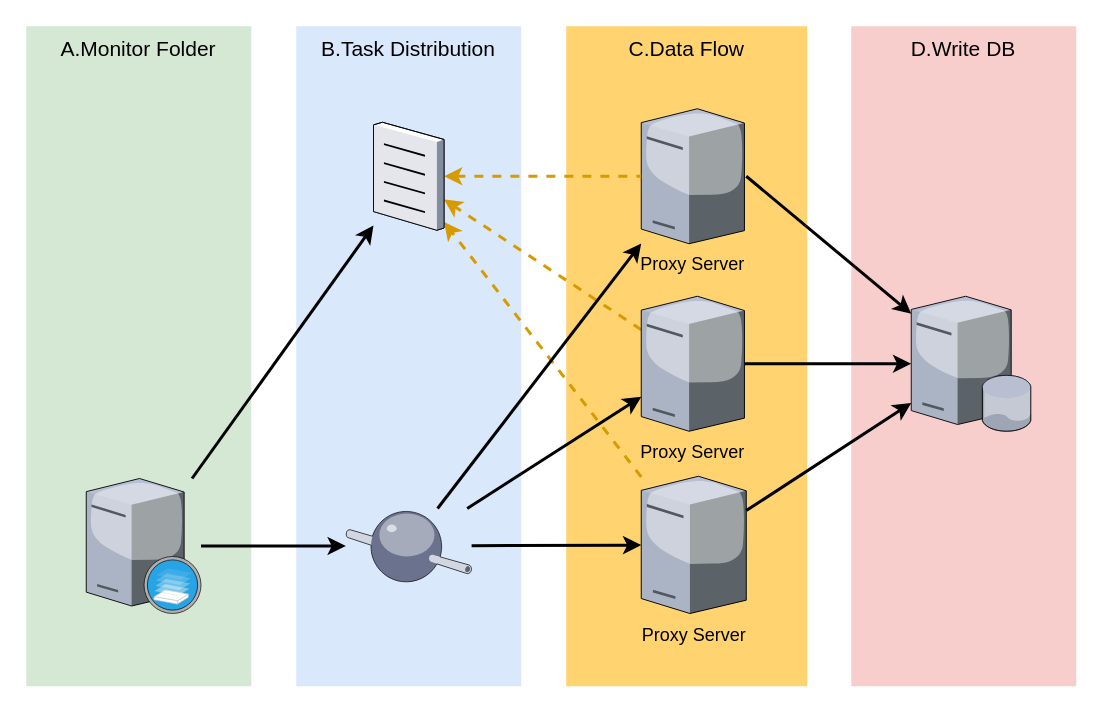
Image size: 1101x711. Some labels were removed from this diagram. Here are the shapes that lost their labels. From the top down, the centre of each, then its label:
At (408,176): "File Server".
At (970,363): "PostgreSQL".
At (143,545): "Monitor Server".
At (408,545): "MQ".
